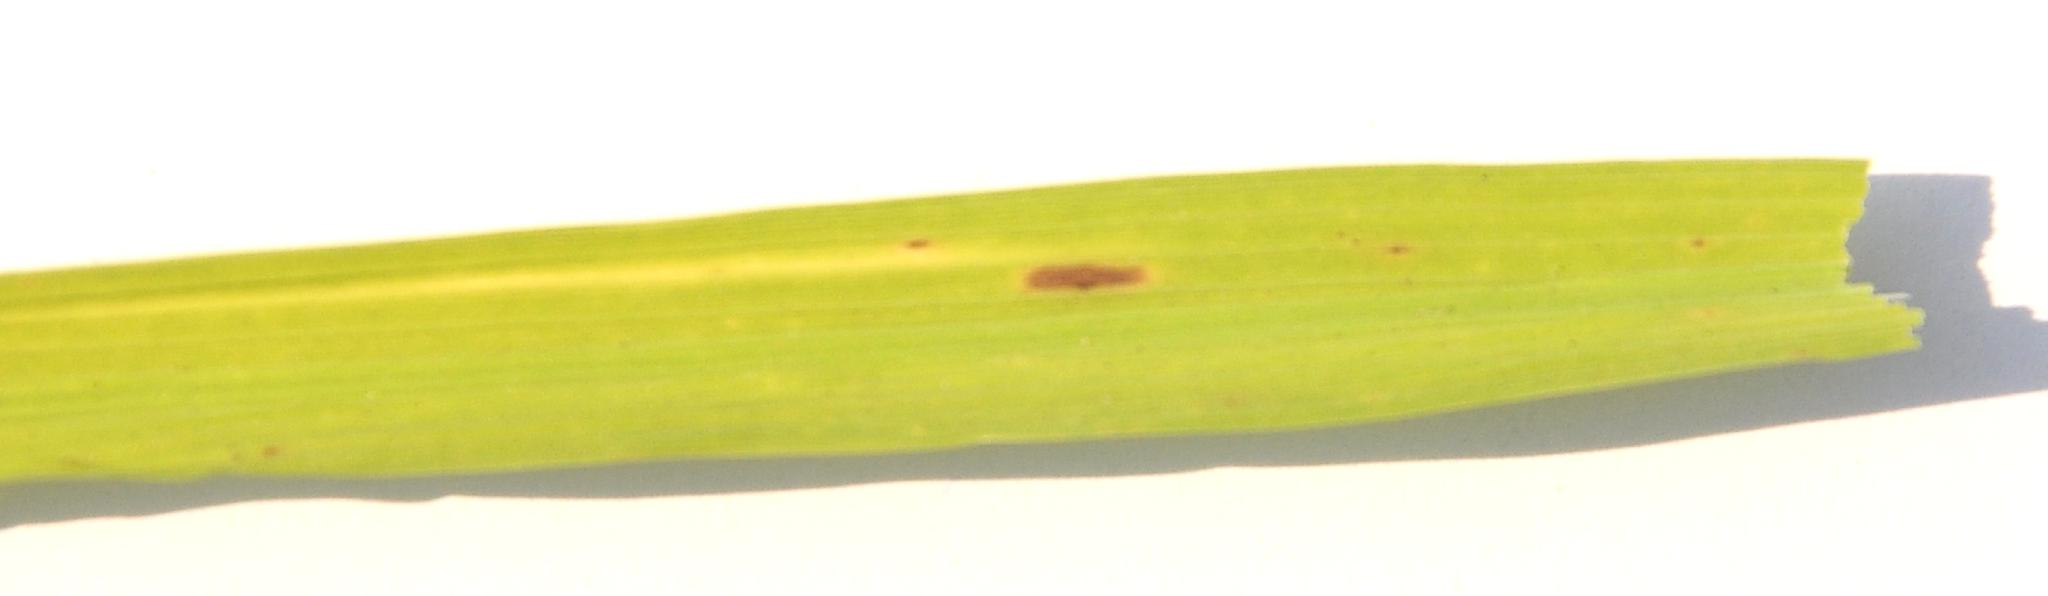0 BrownSpot: (980, 247, 1185, 294)
